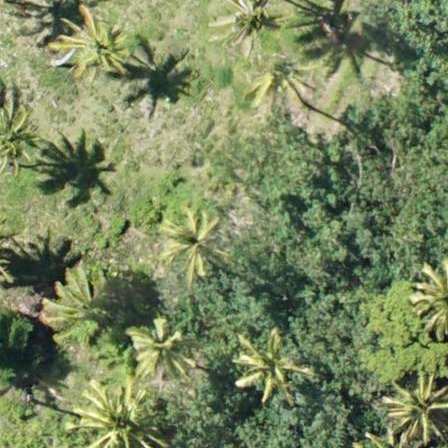palm_tree: (43, 266, 122, 349), (228, 327, 300, 403), (81, 385, 148, 448), (120, 311, 183, 378), (163, 209, 225, 275), (387, 373, 448, 439), (56, 13, 123, 73), (217, 1, 278, 51), (226, 447, 234, 448)
